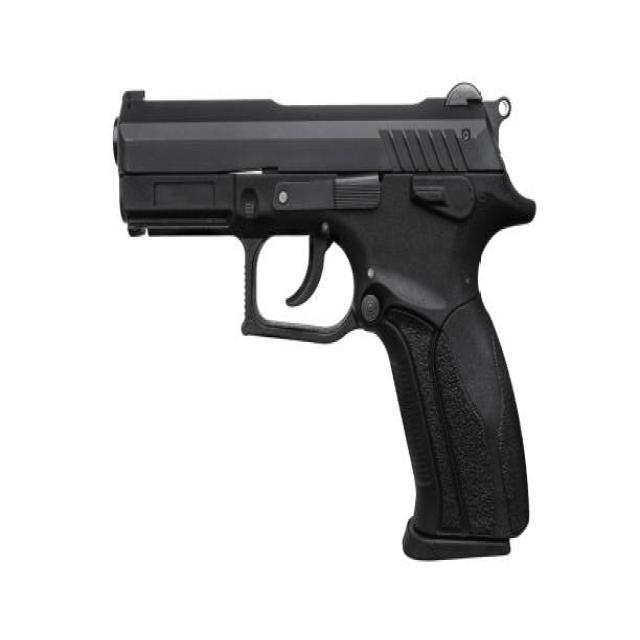pistol: (103, 77, 549, 564)
